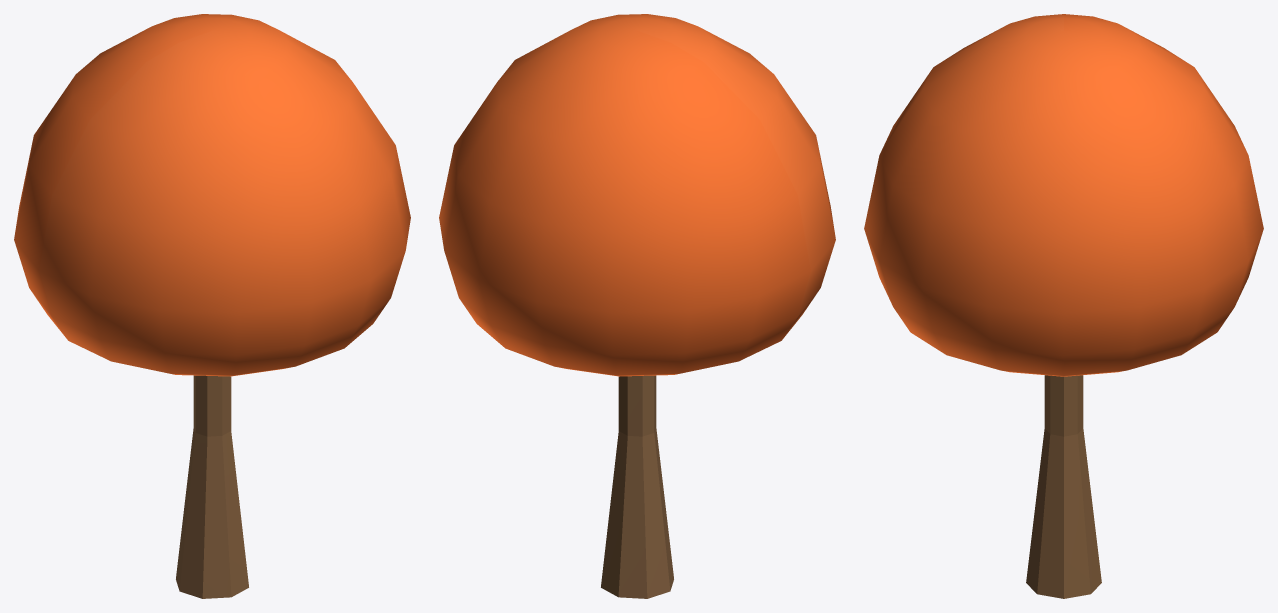
File: tree_1_orange.fbx
3 views of the same model, side by side, from view 1: azimuth 30°, elevation 25°; view 2: azimuth 150°, elevation 25°; view 3: azimuth 270°, elevation 25° (orthographic).
Visible parts, largest first — view 1: tree_1_orange; view 2: tree_1_orange; view 3: tree_1_orange.
Boxes of the visible parts, left/top/right/bottom form: tree_1_orange: left=14, top=14, right=410, bottom=598; tree_1_orange: left=439, top=14, right=835, bottom=598; tree_1_orange: left=864, top=14, right=1263, bottom=598.
Size of the model in its own units: 444 by 676 by 444.
